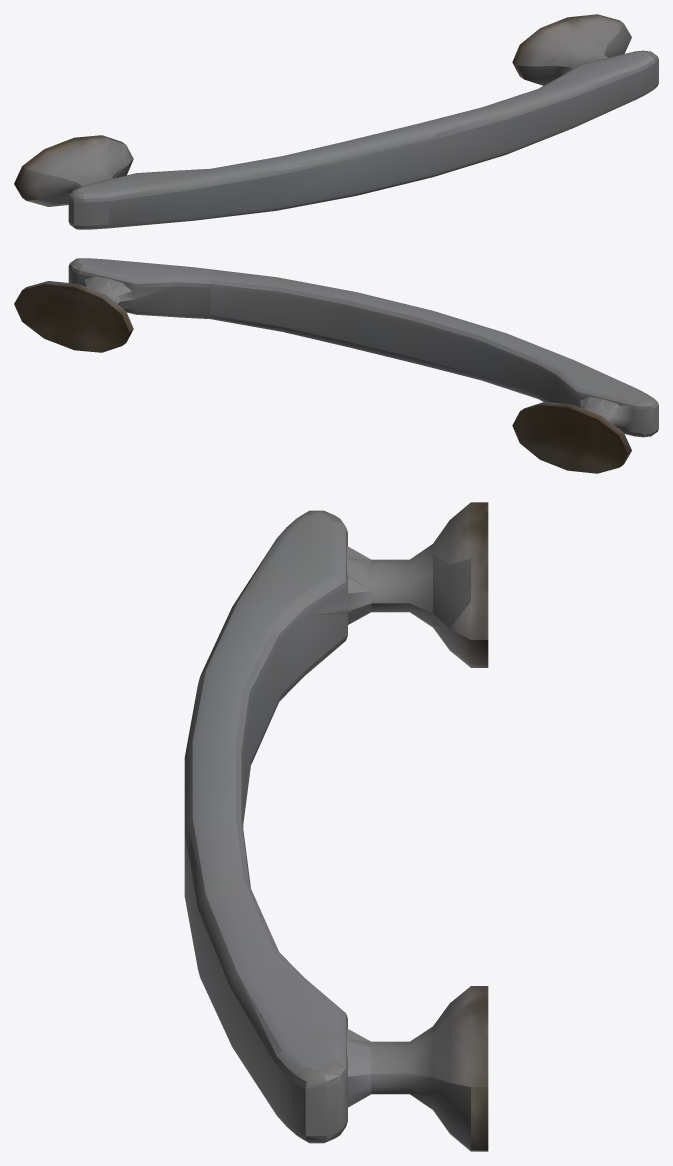
The model's file is link_6__handle-105.glb.
The picture shows the model from 3 angles, top to bottom: view 1: azimuth 30°, elevation 25°; view 2: azimuth 150°, elevation 25°; view 3: azimuth 270°, elevation 25°; orthographic projection. The views are drawn at different scales.
Visible parts, largest first — view 1: geometry_0; view 2: geometry_0; view 3: geometry_0.
Part boxes in pixels (x1=…): geometry_0: x1=14, y1=14, x2=658, y2=229; geometry_0: x1=14, y1=258, x2=658, y2=473; geometry_0: x1=184, y1=502, x2=488, y2=1151.
Size of the model in its own units: 0.0989 by 0.00972 by 0.0212.
Materials: 1 (1 with a texture image).
